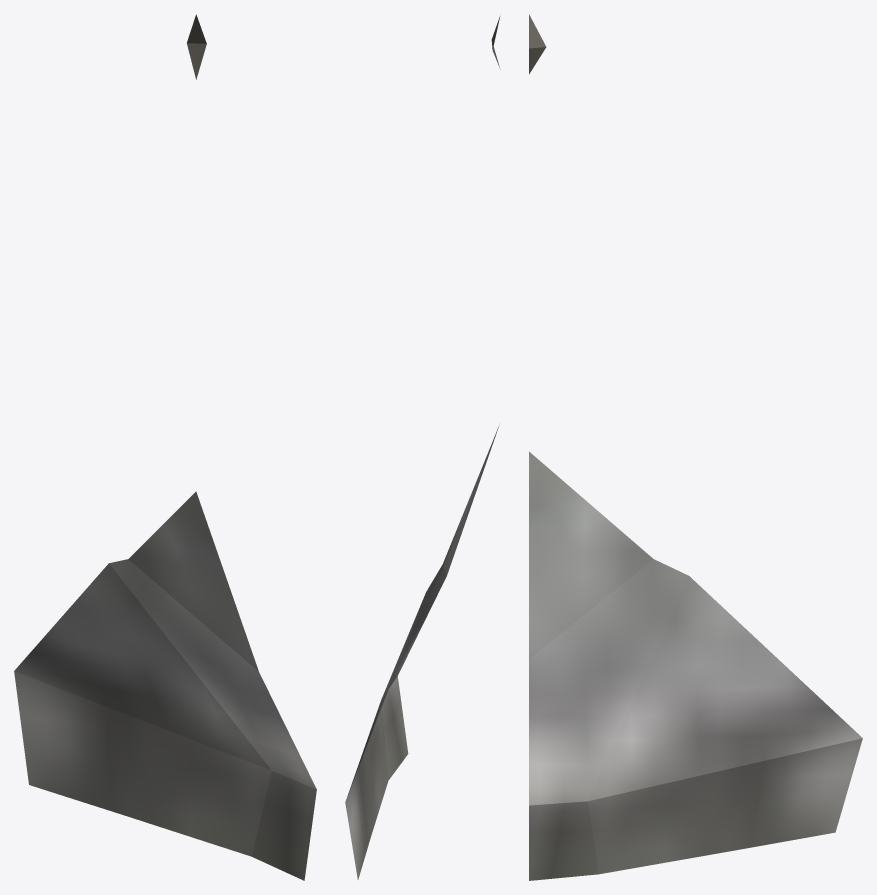
The picture shows the model from 3 angles, left to right: view 1: azimuth 30°, elevation 25°; view 2: azimuth 150°, elevation 25°; view 3: azimuth 270°, elevation 25°; orthographic projection. The views are drawn at different scales.
Size of the model in its own units: 0.0611 by 0.4322 by 0.1598.
Materials: 1 (1 with a texture image).
